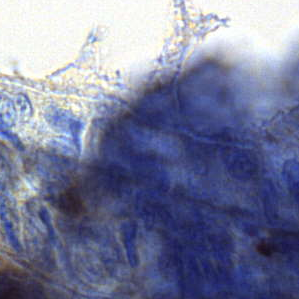Lymphocyte: (56, 189, 87, 216)
